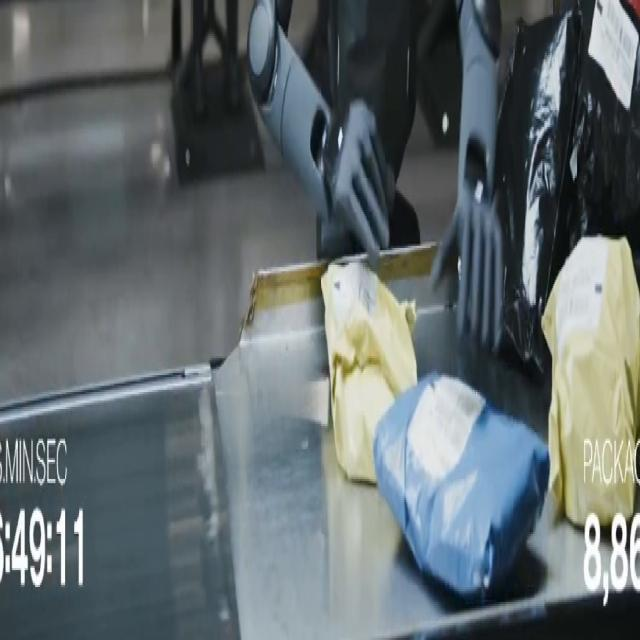package: (374, 373, 549, 599), (495, 11, 581, 372), (543, 238, 639, 525), (321, 263, 416, 483), (570, 0, 639, 254)
